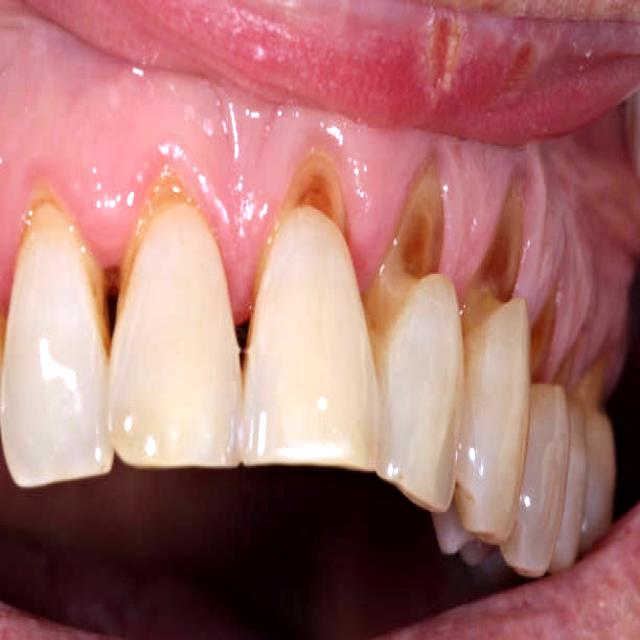gingivitis: (0, 3, 639, 384)
